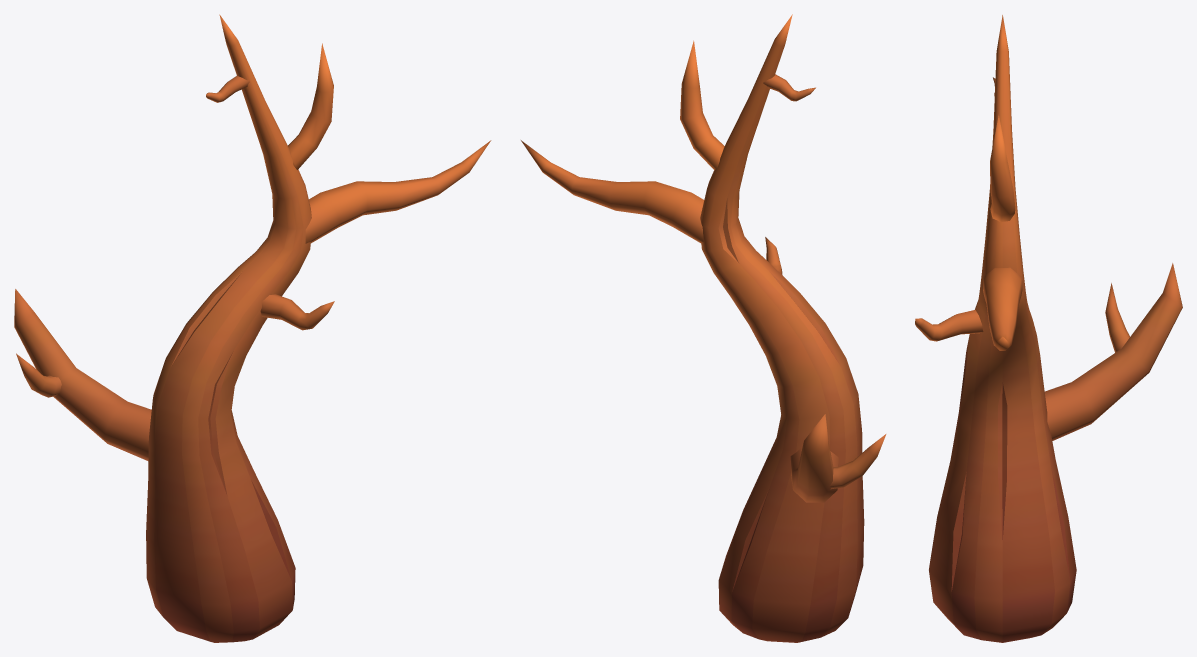
Rendered from tree_bare_1_c_color1.dd420542.glb.
3 renders of one model, left to right at view 1: azimuth 30°, elevation 25°; view 2: azimuth 150°, elevation 25°; view 3: azimuth 270°, elevation 25°, orthographic.
Parts seen in each view (by area): view 1: Tree_Bare_1_C_Color1; view 2: Tree_Bare_1_C_Color1; view 3: Tree_Bare_1_C_Color1.
Boxes of the visible parts, left/top/right/bottom form: Tree_Bare_1_C_Color1: left=14, top=14, right=491, bottom=642; Tree_Bare_1_C_Color1: left=521, top=14, right=886, bottom=642; Tree_Bare_1_C_Color1: left=915, top=15, right=1182, bottom=642.
Bounding box in the file's own units: 3.74 × 5.26 × 2.07.
Materials: 1 (1 with a texture image).
